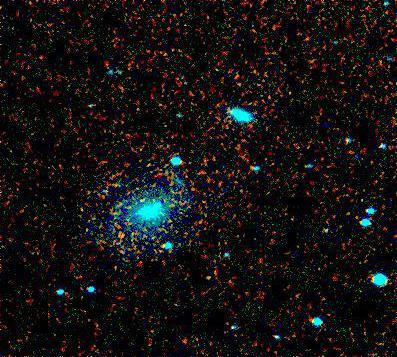star: (107, 219, 137, 249)
